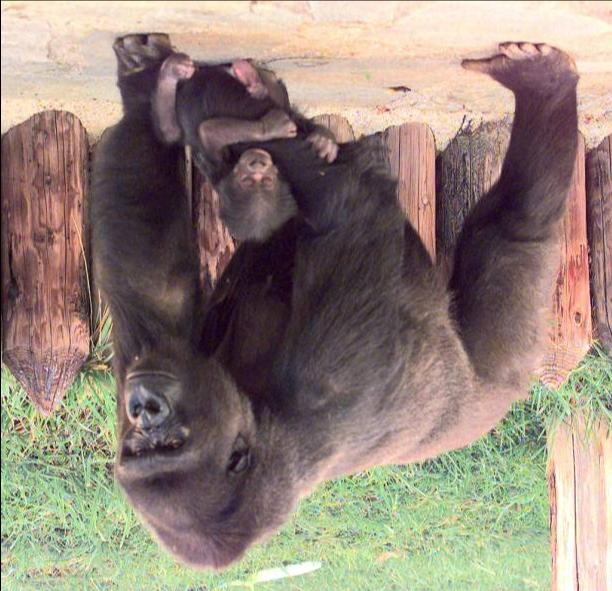gorille_Autres: (9, 36, 590, 575)
